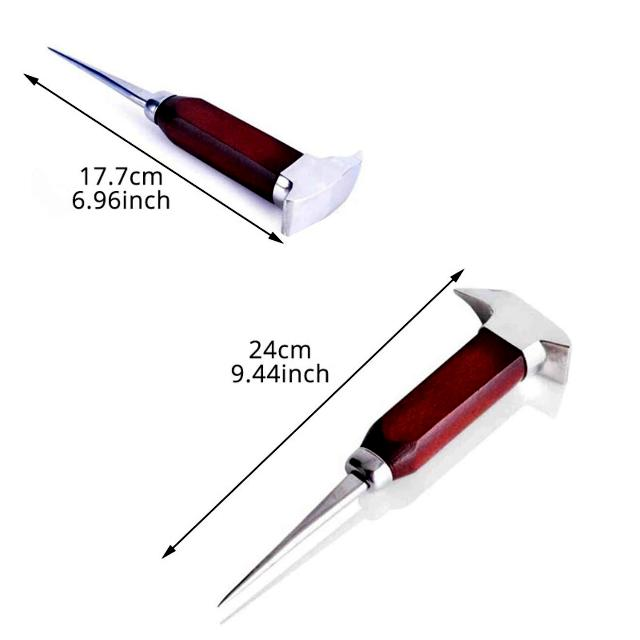ice pick: (216, 287, 574, 608), (46, 45, 364, 238)
